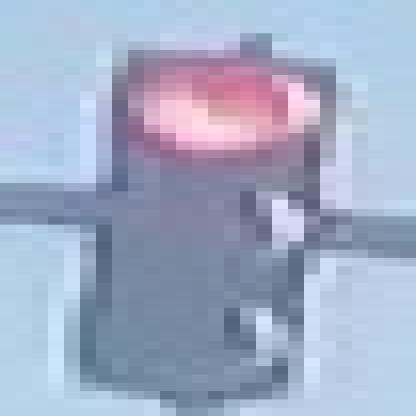Red Light: (97, 42, 316, 401)
